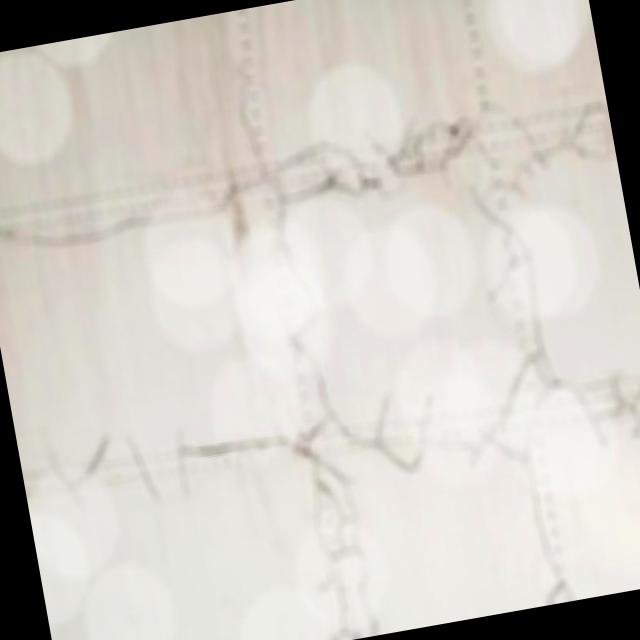crack: (25, 325, 640, 552), (0, 84, 619, 283), (213, 50, 386, 640), (456, 122, 604, 604)
